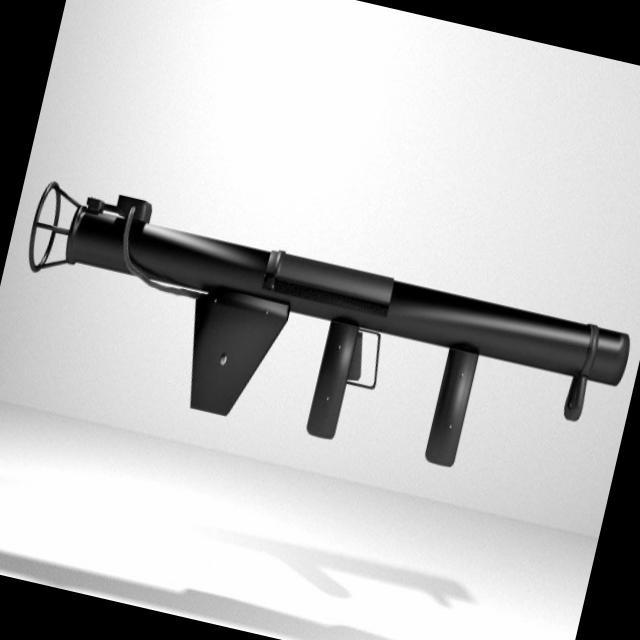rocket: (0, 177, 640, 504)
